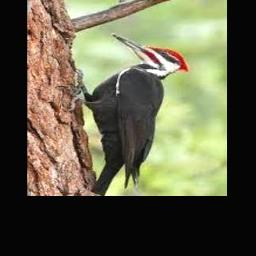Woodpecker: (61, 33, 189, 195)
